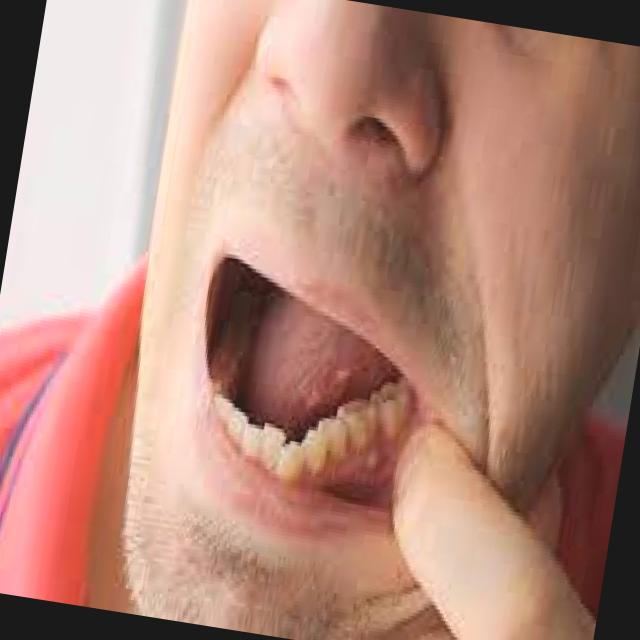abscess: (329, 437, 390, 494)
